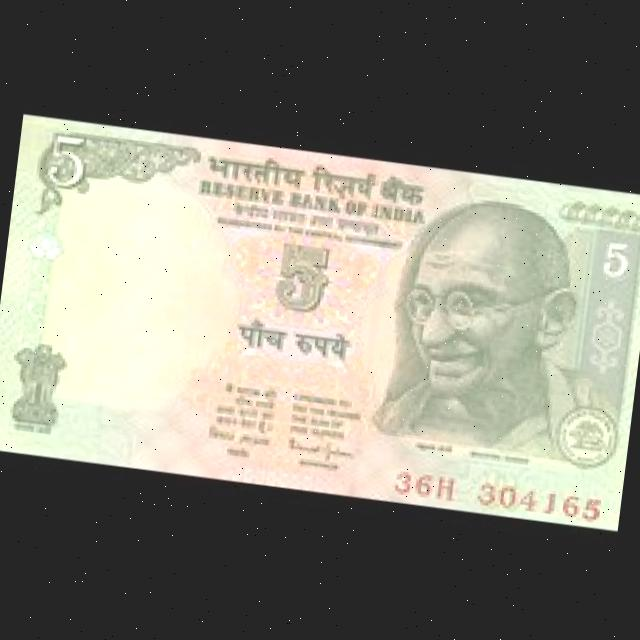banknote: (0, 111, 640, 530)
